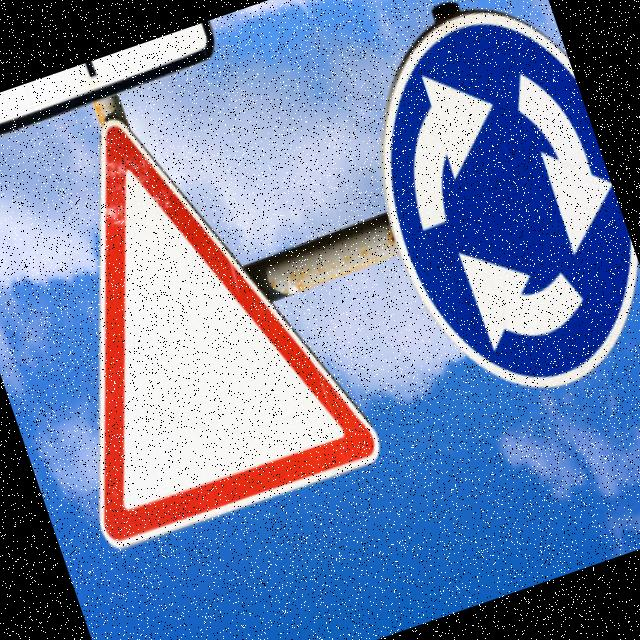round_about: (333, 0, 640, 428)
